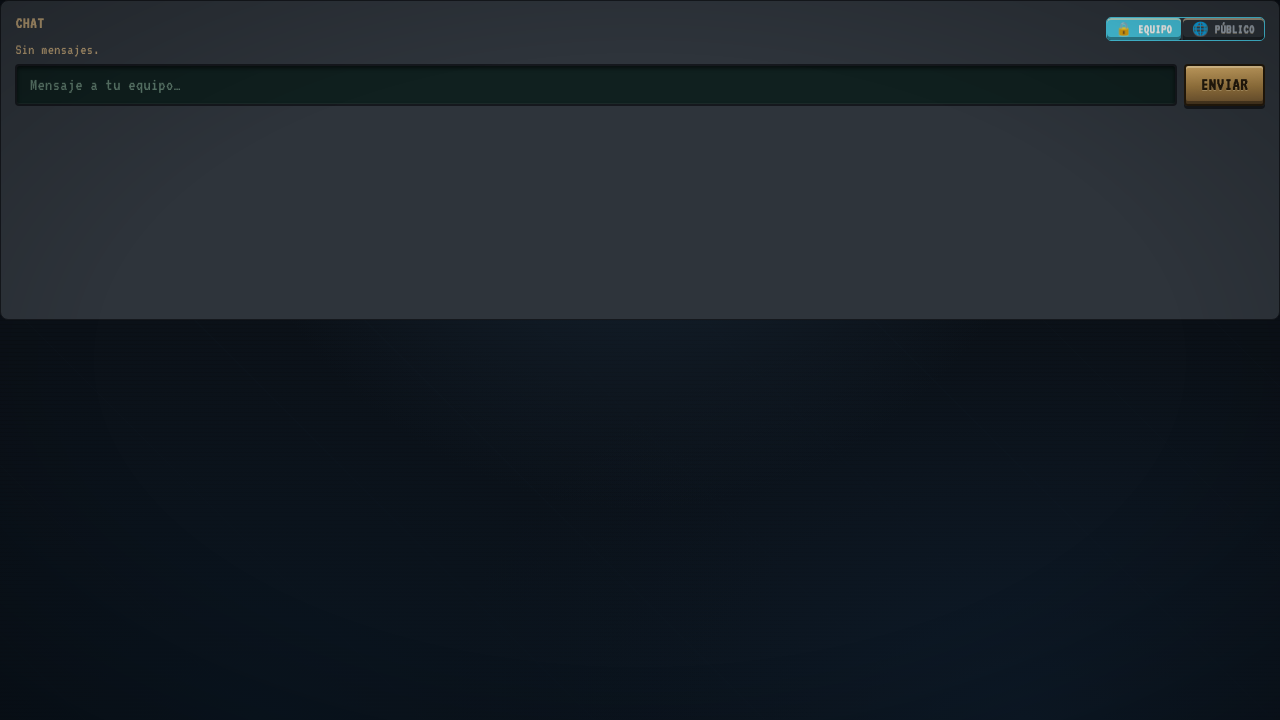
Test case: Chat › en el canal público lista a los jugadores conectados (bots y desconectados fuera)
Click the tab "🌐 Público" at point(1223, 29), box [1183, 18, 1264, 40]
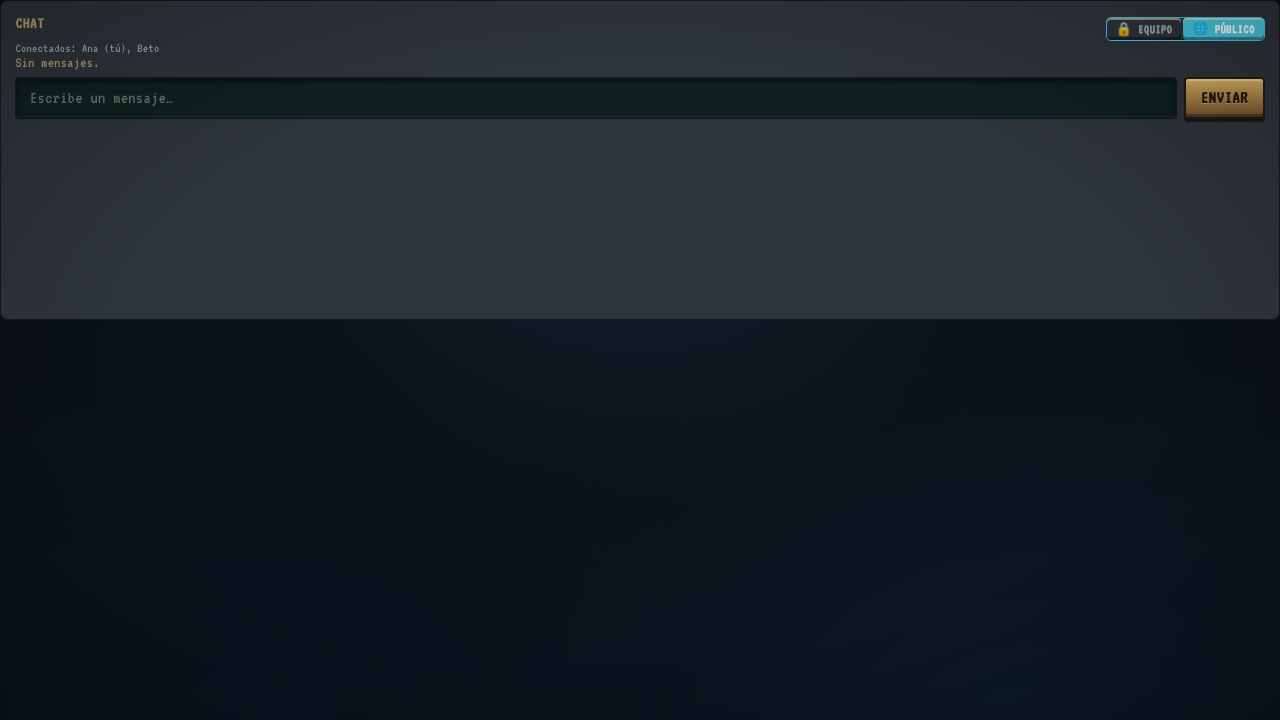
Now the text titled "Jugadores conectados en el chat público" shows "Ana (tú)", box [82, 42, 160, 55]
Now the text titled "Jugadores conectados en el chat público" shows "Beto", box [82, 42, 160, 55]
